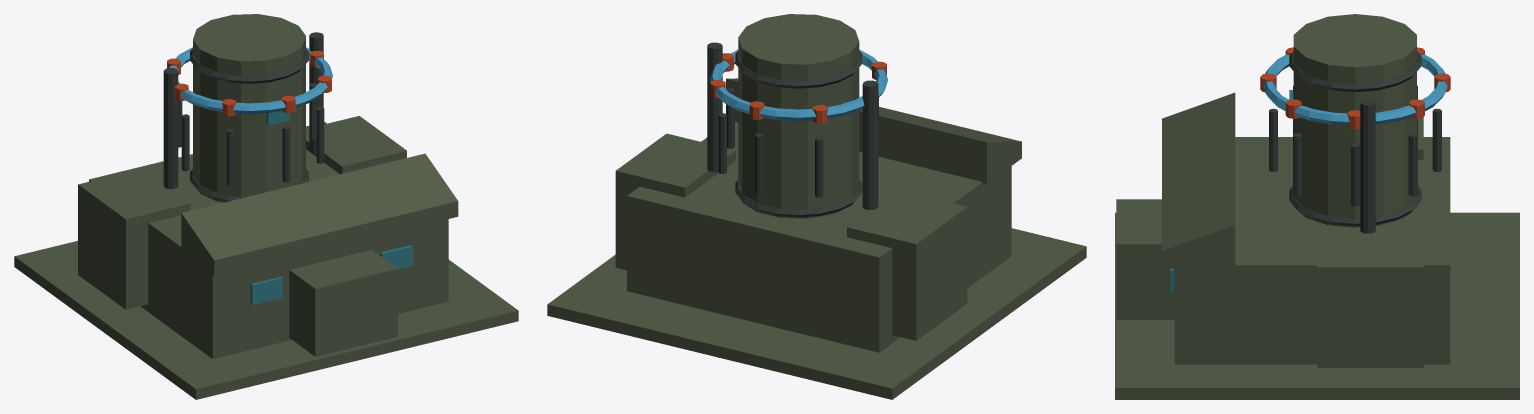
Rendered from Bastion_TechCenter_Static.obj.
The picture shows the model from 3 angles, left to right: view 1: azimuth 30°, elevation 25°; view 2: azimuth 150°, elevation 25°; view 3: azimuth 270°, elevation 25°; orthographic projection. The views are drawn at different scales.
Visible parts, largest first — view 1: Bastion_TechCenter_Static; view 2: Bastion_TechCenter_Static; view 3: Bastion_TechCenter_Static.
Boxes of the visible parts, box(x1,y1,x2,y2) form: Bastion_TechCenter_Static: box(14, 14, 518, 399); Bastion_TechCenter_Static: box(547, 14, 1086, 399); Bastion_TechCenter_Static: box(1115, 14, 1519, 399).
Size of the model in its own units: 8.2 by 5.93 by 8.
Materials: 1 (1 with a texture image).
